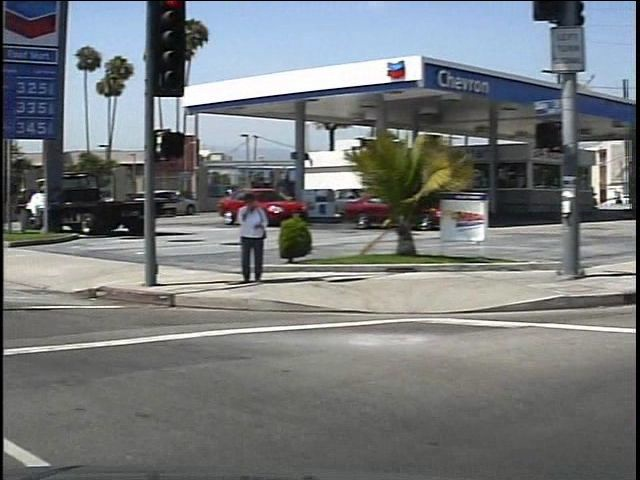person: (226, 190, 262, 288)
